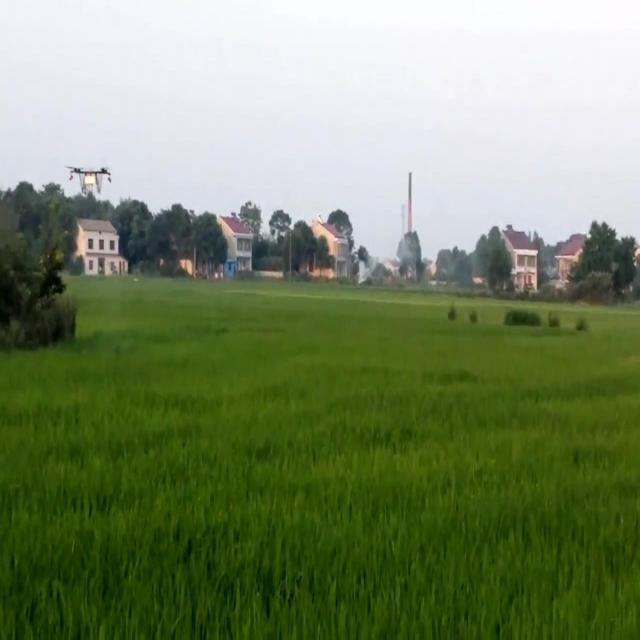drone: (66, 162, 116, 198)
